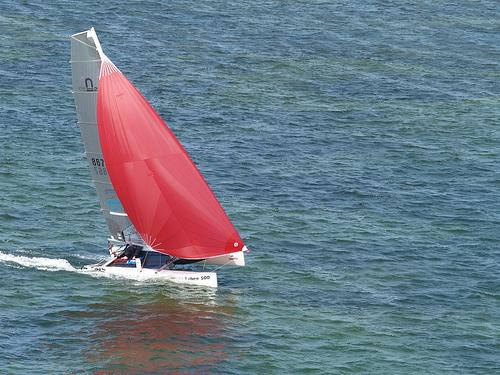Ship: (70, 29, 248, 291)
